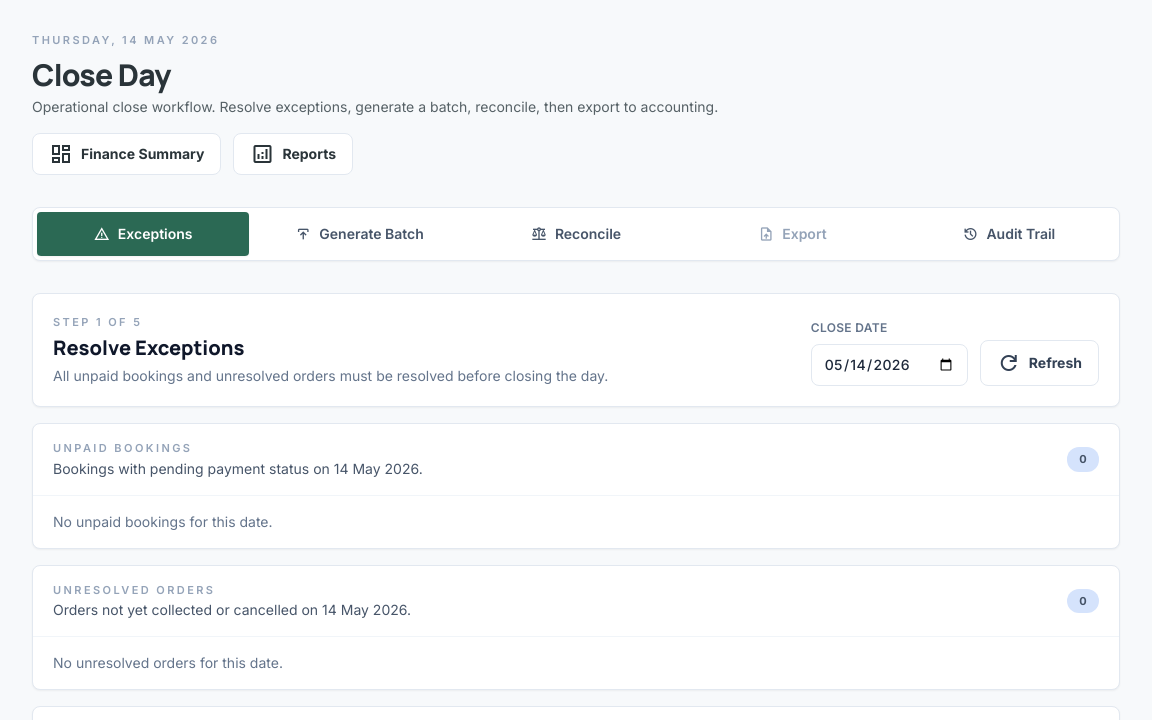
Test: AdminFinancePage - Close Day wizard › reconcile step shows drift state and regenerate button when batch has drift
Click the button "Reconcile" at (576, 234), box [470,212,682,256]
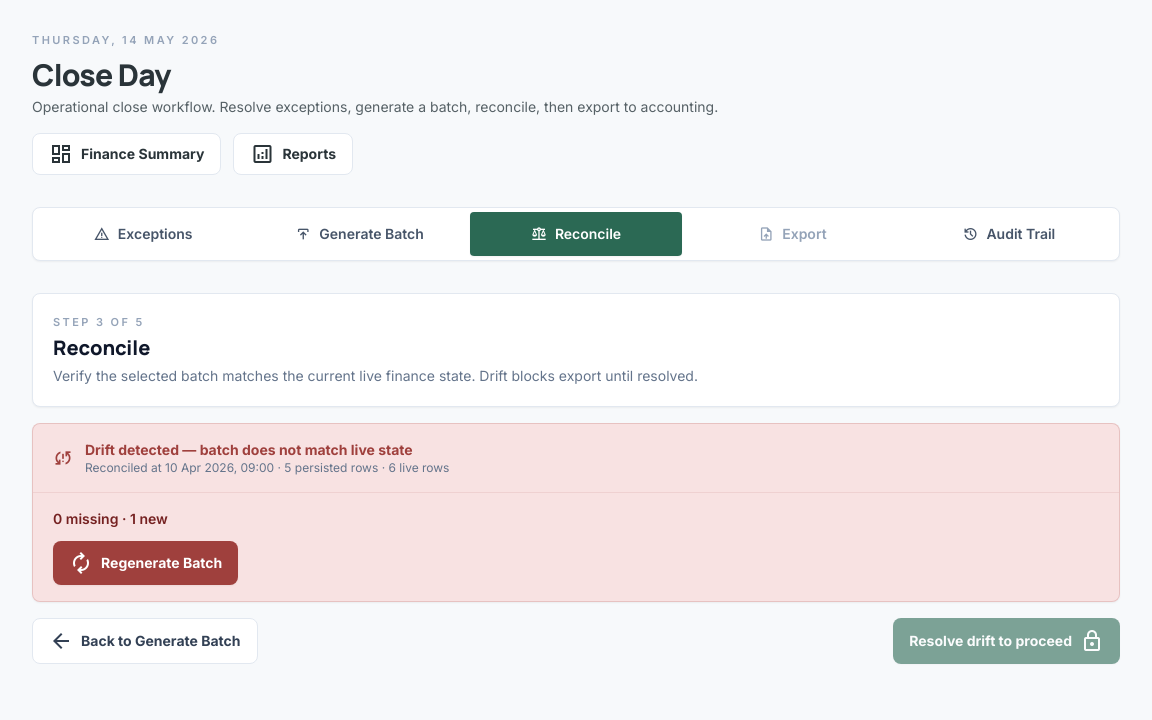
Now the text "Drift detected — batch does not match live state" is shown, box [85,440,450,460]
Now the button "Regenerate Batch" is shown, box [53,541,238,585]
